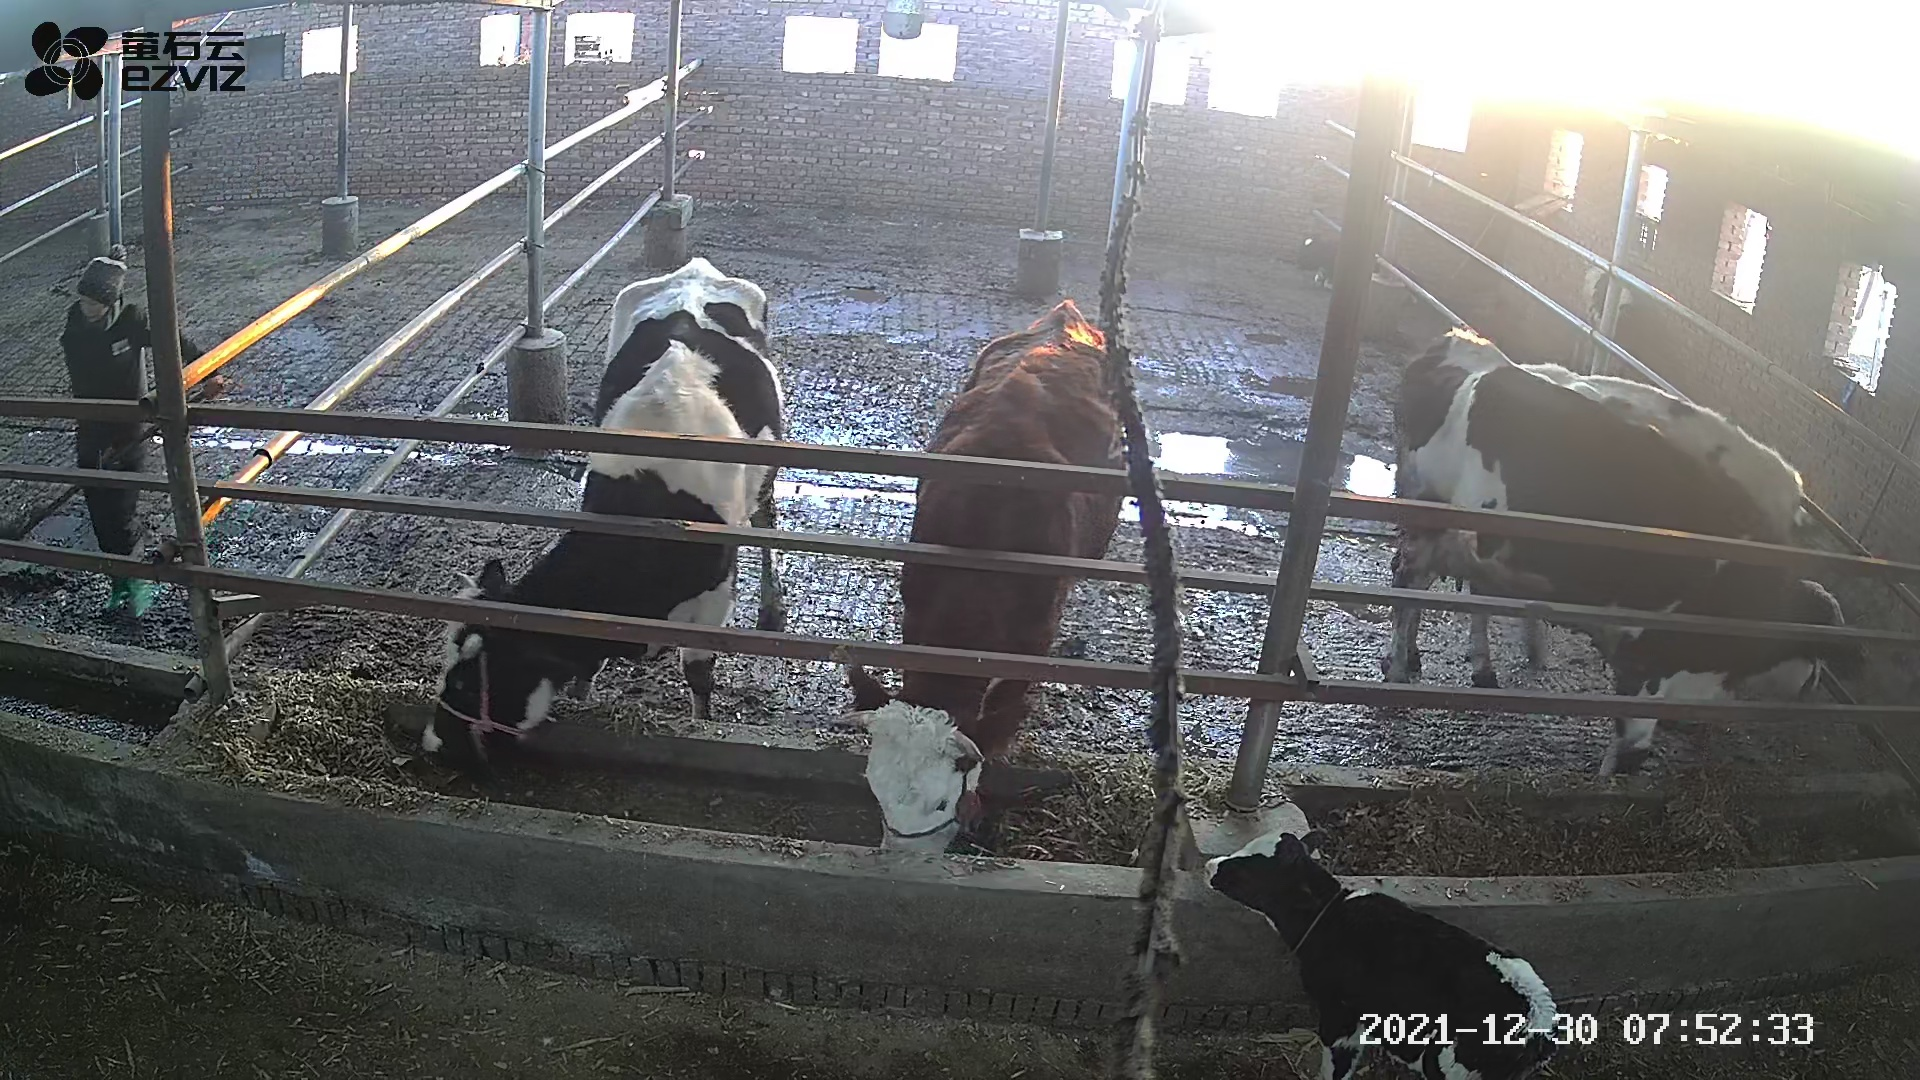cow: (1377, 324, 1869, 775), (422, 257, 782, 781), (843, 301, 1127, 856), (1462, 363, 1815, 687)
